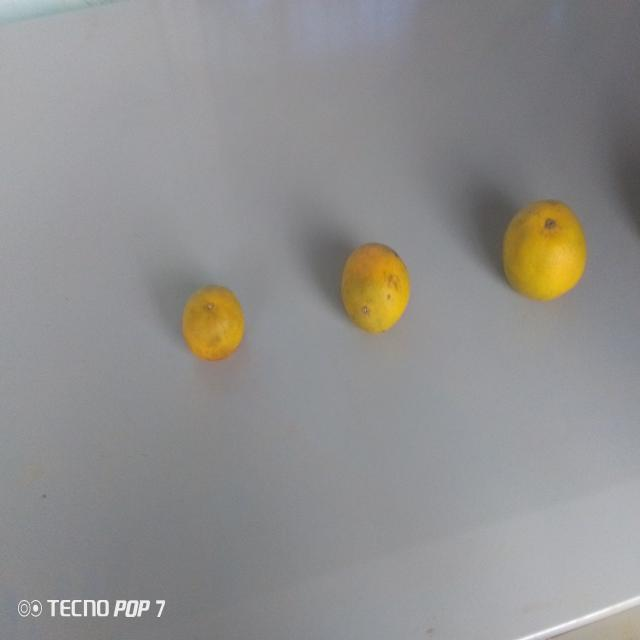Ripe orange: (491, 190, 593, 307), (336, 239, 413, 337), (180, 272, 245, 372)
